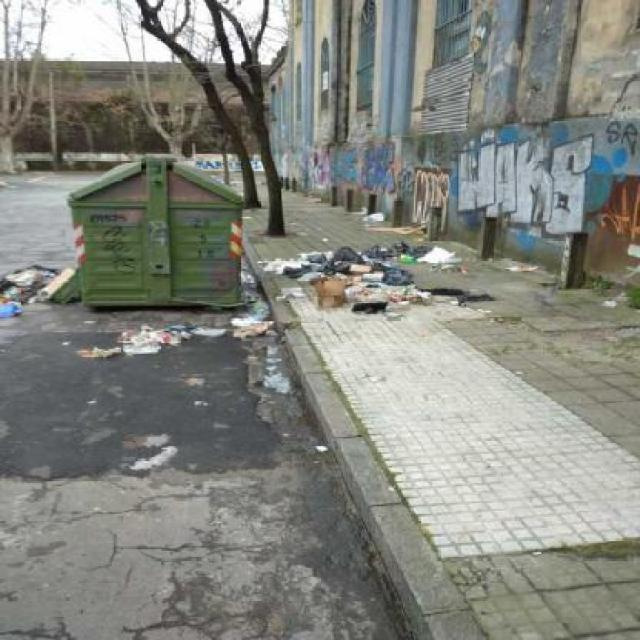garbage: (243, 240, 538, 319), (89, 319, 296, 365), (1, 254, 86, 360), (329, 185, 433, 251)
